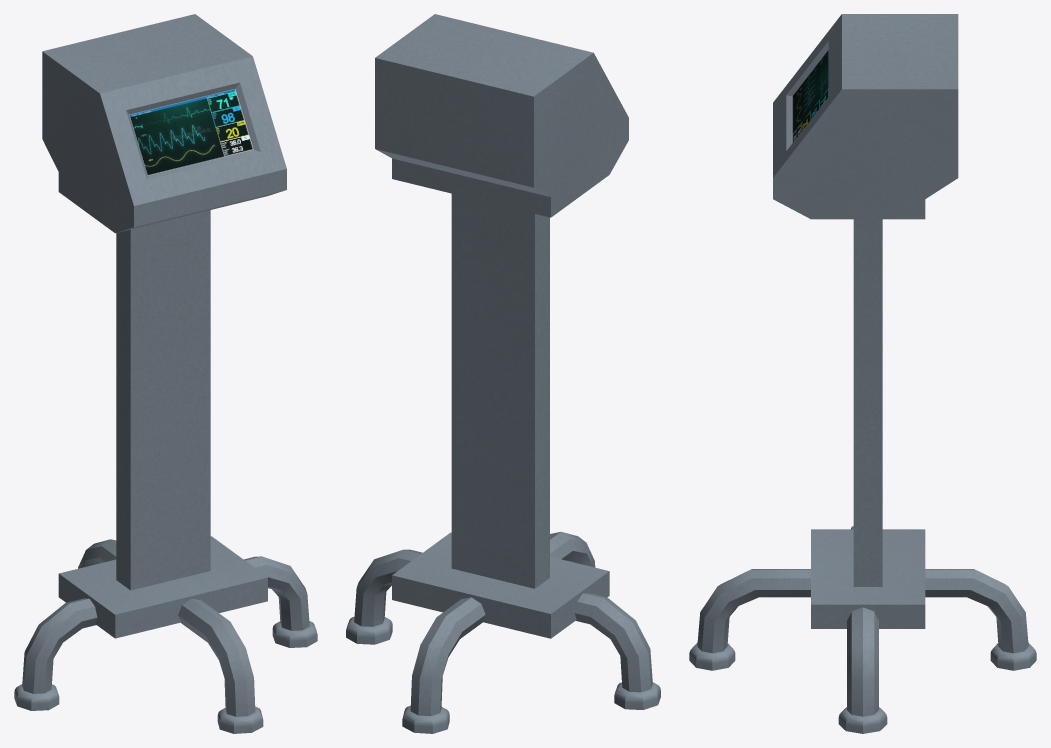
File: med_device.fbx
3 renders of one model, left to right at view 1: azimuth 30°, elevation 25°; view 2: azimuth 150°, elevation 25°; view 3: azimuth 270°, elevation 25°, orthographic. The views are drawn at different scales.
Visible parts, largest first — view 1: med_device; view 2: med_device; view 3: med_device.
Boxes of the visible parts, x1,y1,x2,y2 form: med_device: (14,14,317,733); med_device: (346,14,660,733); med_device: (689,14,1036,733).
Bounding box in the file's own units: 81.66 × 158 × 81.66.
Materials: 1 (1 with a texture image).
